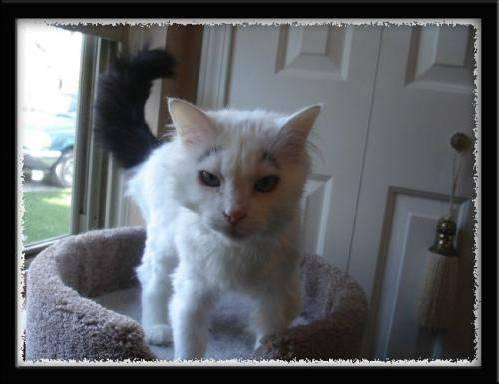cat: (98, 49, 320, 359)
